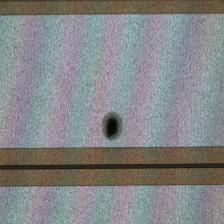PO CONTAMINATION: (97, 107, 130, 146)
